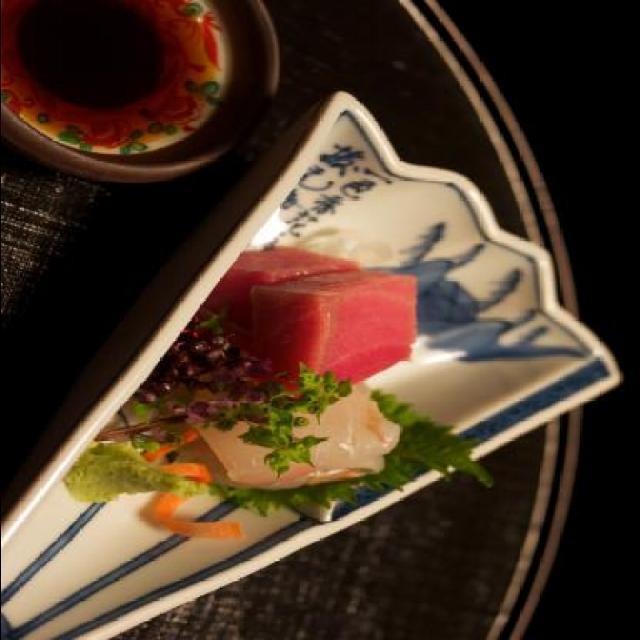Carrot: (138, 430, 247, 539)
